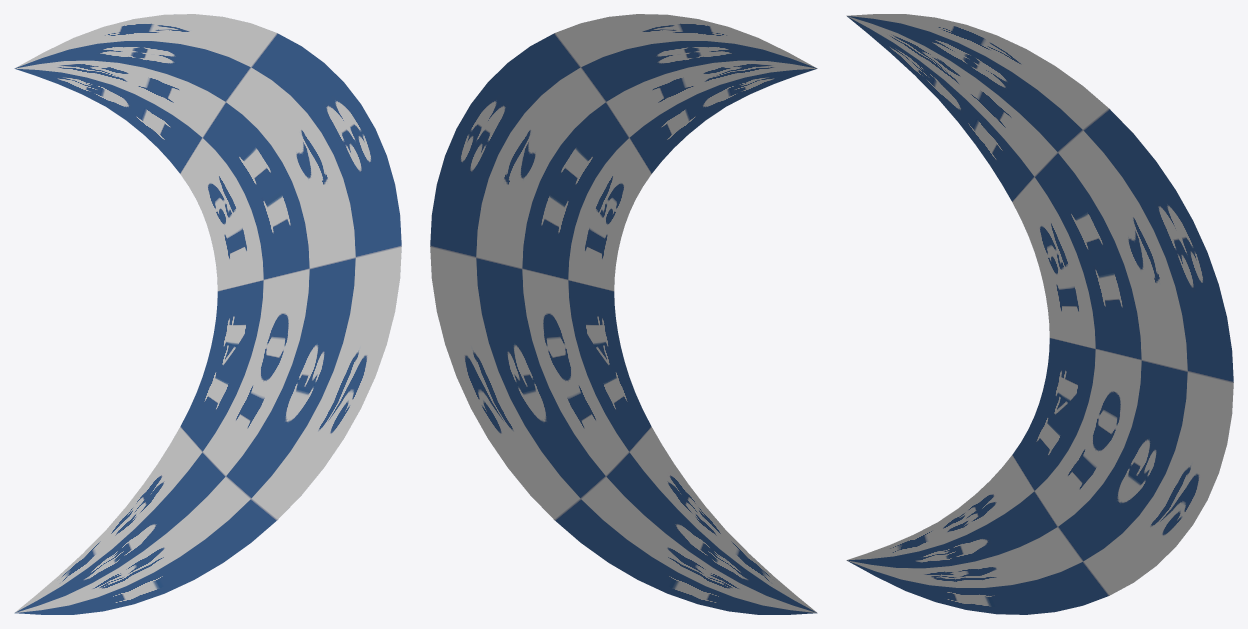
The model's file is Slash7.fbx.
The picture shows the model from 3 angles, left to right: view 1: azimuth 30°, elevation 25°; view 2: azimuth 150°, elevation 25°; view 3: azimuth 330°, elevation 25°; orthographic projection.
Parts seen in each view (by area): view 1: SM_e_cmn_Slash006; view 2: SM_e_cmn_Slash006; view 3: SM_e_cmn_Slash006.
Part boxes in pixels (x1,y1,x2,y2): SM_e_cmn_Slash006: (14, 14, 401, 614); SM_e_cmn_Slash006: (430, 14, 817, 614); SM_e_cmn_Slash006: (846, 14, 1233, 614).
Size of the model in its own units: 67.26 by 97.04 by 3.36e-06.
